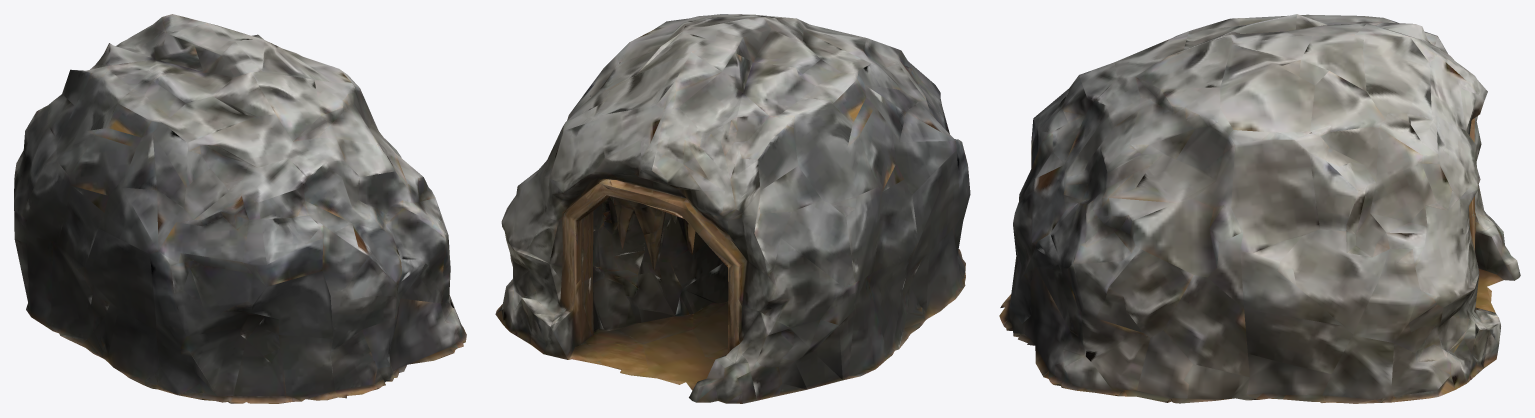
File: poi_cave.glb
3 renders of one model, left to right at view 1: azimuth 30°, elevation 25°; view 2: azimuth 150°, elevation 25°; view 3: azimuth 270°, elevation 25°, orthographic. The views are drawn at different scales.
Parts seen in each view (by area): view 1: Mesh_0; view 2: Mesh_0; view 3: Mesh_0.
Part boxes in pixels (box(x1,y1,x2,y2)): Mesh_0: box(14, 14, 466, 403); Mesh_0: box(495, 14, 970, 403); Mesh_0: box(999, 14, 1520, 403).
Size of the model in its own units: 1.64 by 1.2 by 2.
Materials: 1 (1 with a texture image).
